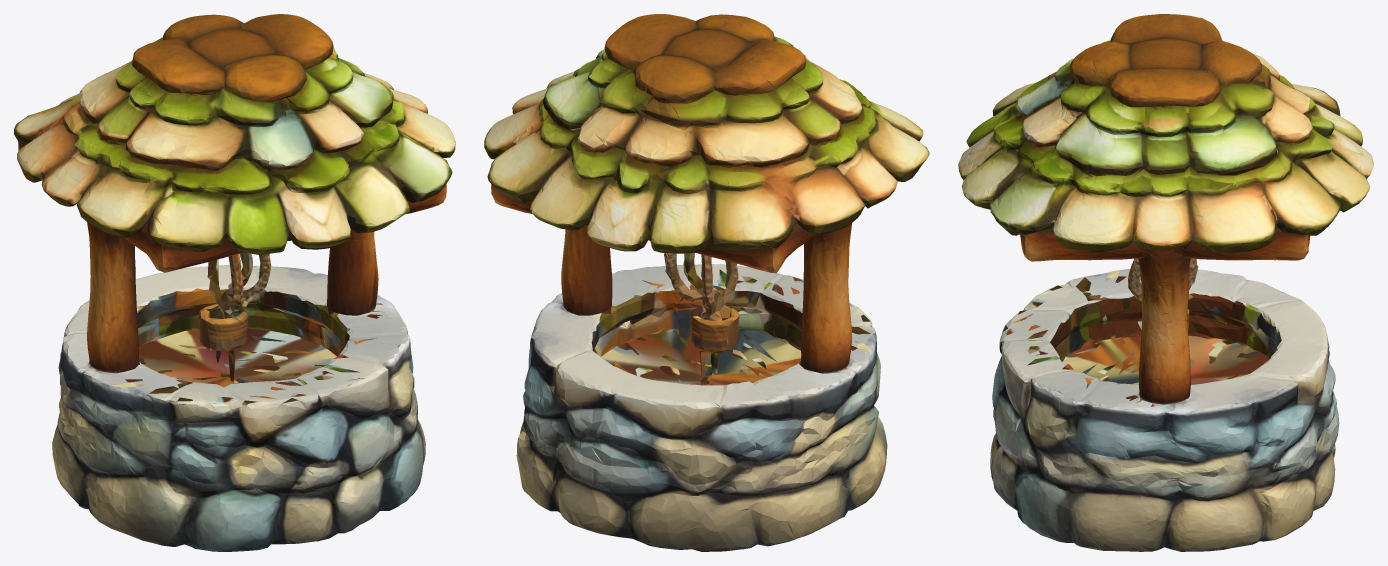
Rendered from well_painted.glb.
3 views of the same model, side by side, from view 1: azimuth 30°, elevation 25°; view 2: azimuth 150°, elevation 25°; view 3: azimuth 270°, elevation 25° (orthographic).
Parts seen in each view (by area): view 1: geometry_0; view 2: geometry_0; view 3: geometry_0.
Part boxes in pixels (<box>): geometry_0: <box>14,14,455,551</box>; geometry_0: <box>484,14,929,551</box>; geometry_0: <box>958,14,1373,551</box>.
Bounding box in the file's own units: 1.77 × 1.99 × 1.73.
Materials: 1 (1 with a texture image).
